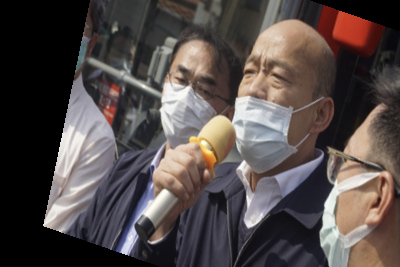mask_weared_incorrect: (232, 14, 335, 174)
